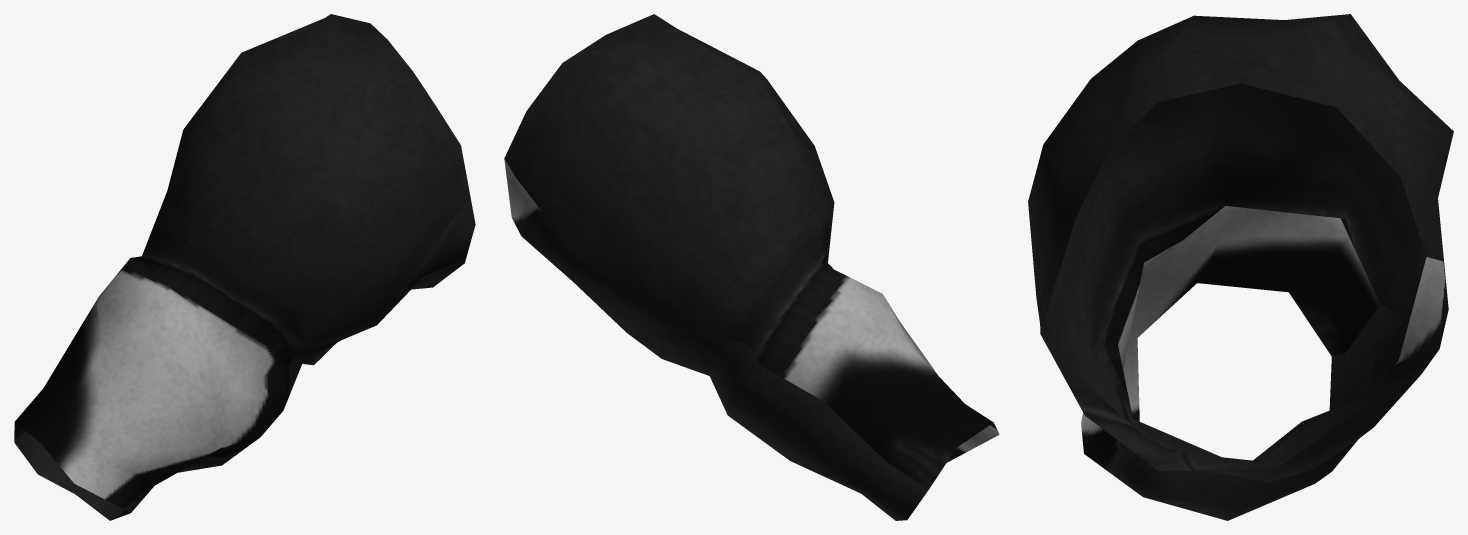
Rendered from Larm1.obj.
3 views of the same model, side by side, from view 1: azimuth 30°, elevation 25°; view 2: azimuth 150°, elevation 25°; view 3: azimuth 270°, elevation 25° (orthographic). The views are drawn at different scales.
Visible parts, largest first — view 1: polySurface61 polySurface59 polySurface56 polySurface53 polySurf; view 2: polySurface61 polySurface59 polySurface56 polySurface53 polySurf; view 3: polySurface61 polySurface59 polySurface56 polySurface53 polySurf.
Boxes of the visible parts, bbox=[...] form: polySurface61 polySurface59 polySurface56 polySurface53 polySurf: bbox=[14, 14, 475, 520]; polySurface61 polySurface59 polySurface56 polySurface53 polySurf: bbox=[504, 14, 999, 520]; polySurface61 polySurface59 polySurface56 polySurface53 polySurf: bbox=[1028, 14, 1453, 520].
Bounding box in the file's own units: 5.22 × 5.21 × 2.97.
Materials: 1 (1 with a texture image).
